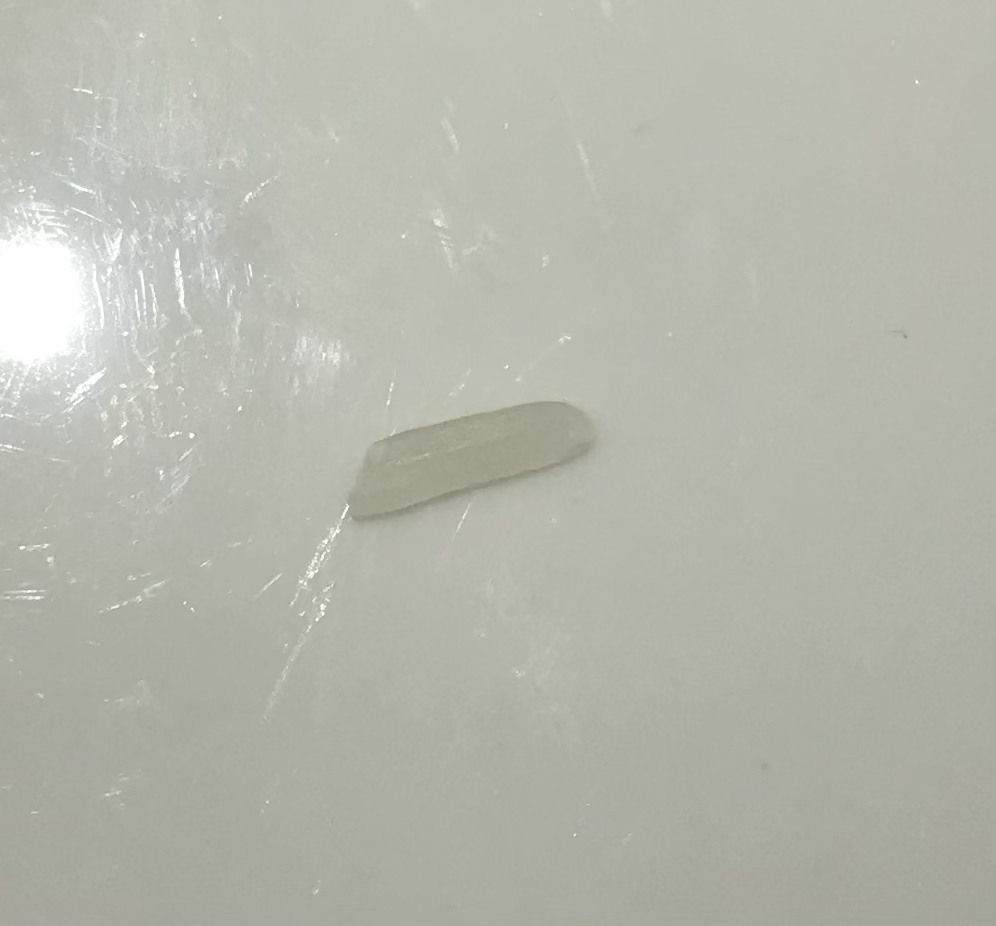Gao Thom Go Cong: (332, 366, 621, 552)
